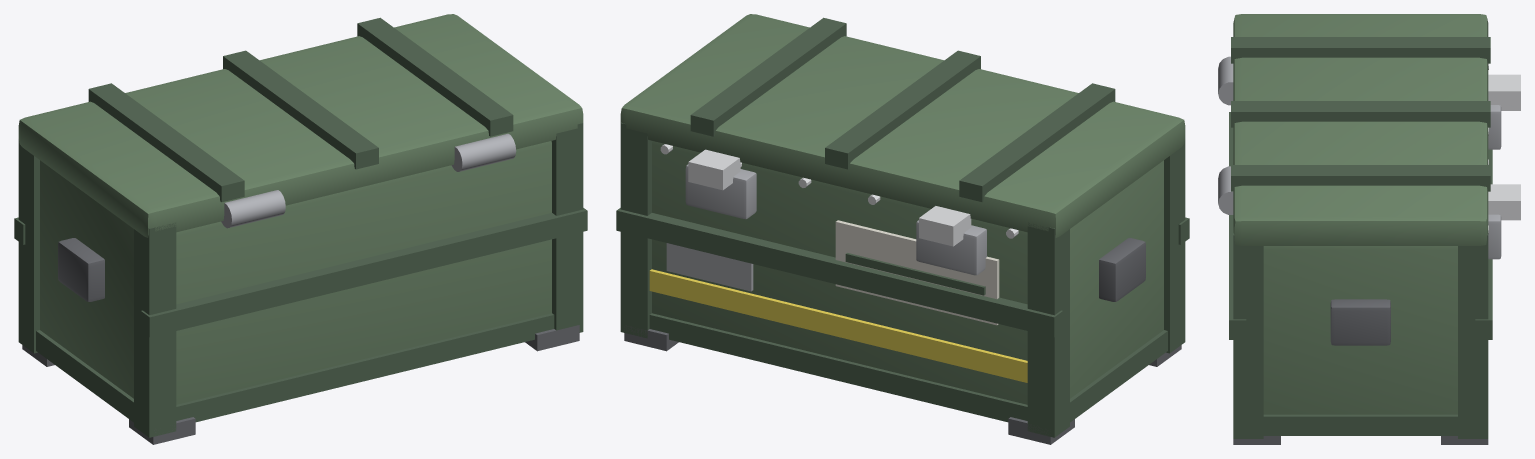
The model's file is PR_supply_crate.fbx.
3 views of the same model, side by side, from view 1: azimuth 30°, elevation 25°; view 2: azimuth 150°, elevation 25°; view 3: azimuth 270°, elevation 25° (orthographic). The views are drawn at different scales.
Visible parts, largest first — view 1: PR_supply_crate; view 2: PR_supply_crate; view 3: PR_supply_crate.
Part boxes in pixels (<box>): PR_supply_crate: <box>14,14,587,444</box>; PR_supply_crate: <box>616,14,1189,444</box>; PR_supply_crate: <box>1218,14,1520,444</box>.
Bounding box in the file's own units: 1.19 × 0.605 × 0.7.
